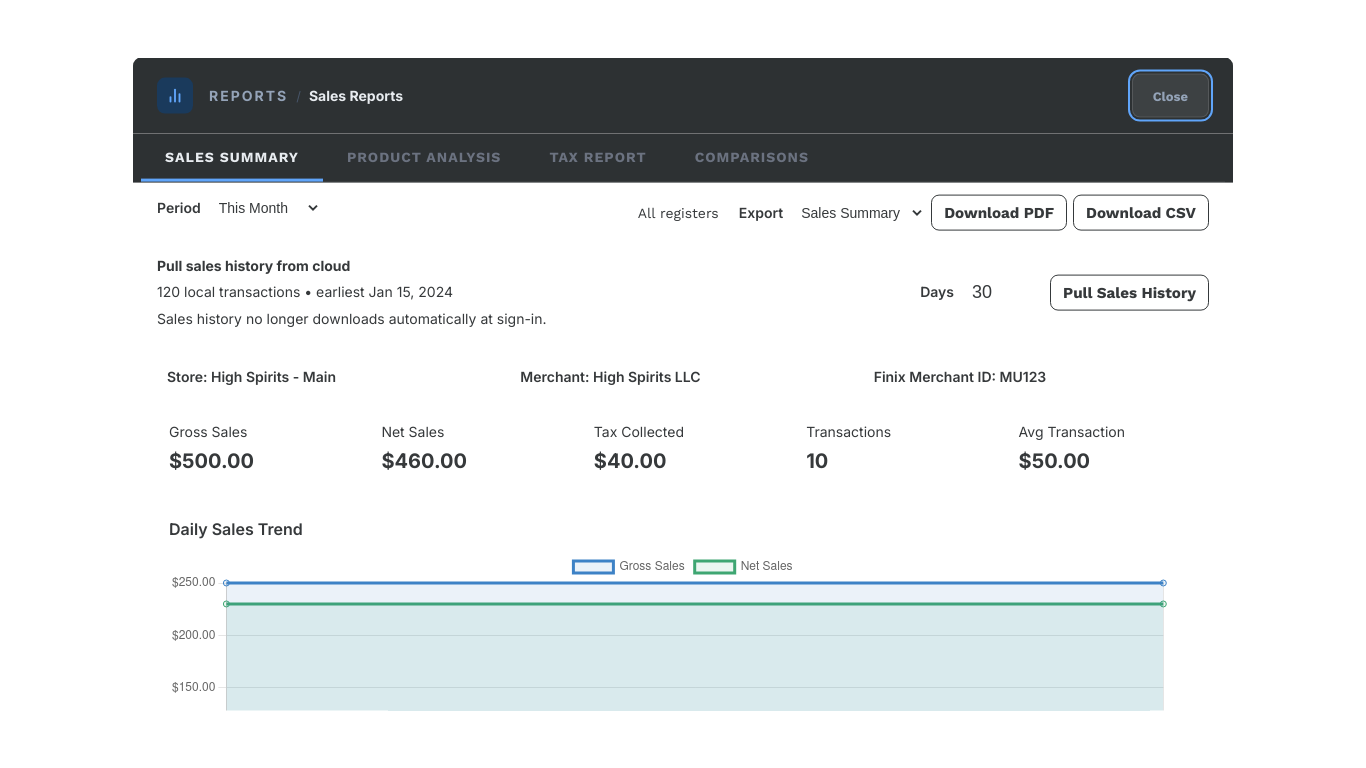
Test: ReportsModal › switches to Comparisons tab and shows comparison UI
Click the tab "Comparisons" at [752, 158], box [671,134,833,182]
(page scrolled)
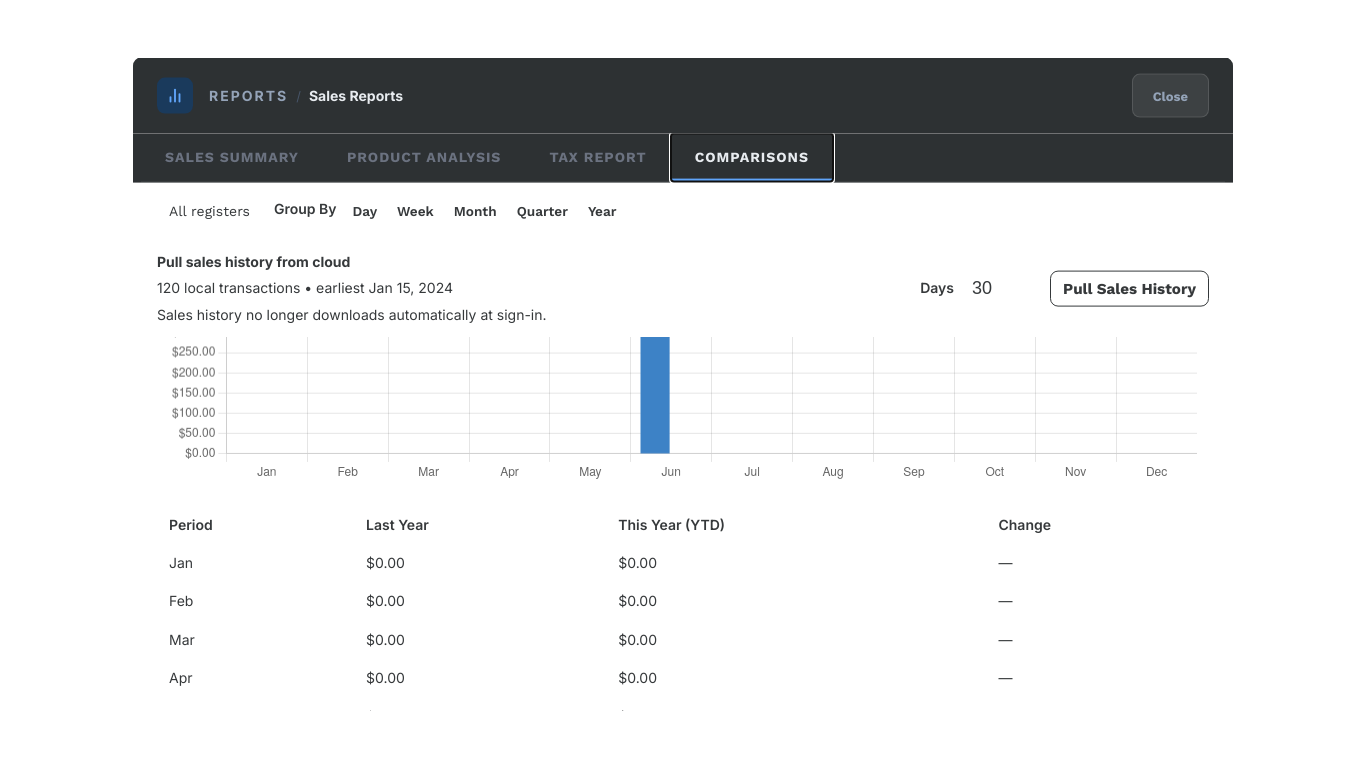
Expected: the column heading "Last Year" is shown, [354,505,606,544]
Expected: the column heading "This Year (YTD)" is shown, [606,505,986,544]
